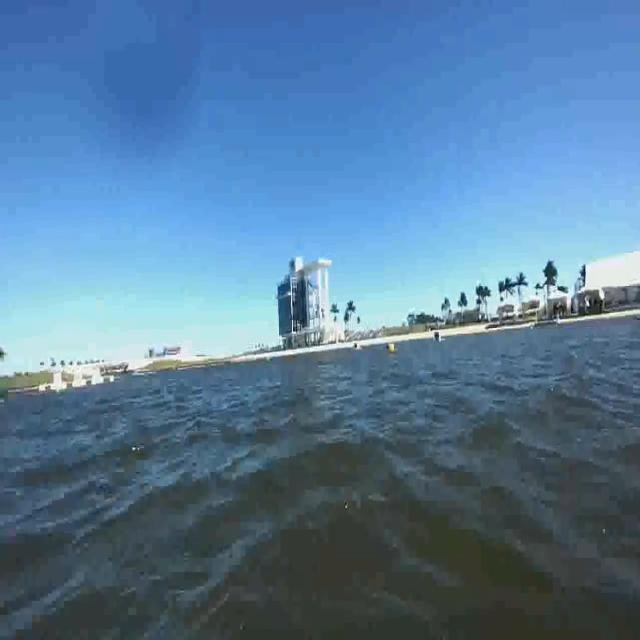yellow-buoy: (386, 343, 394, 356)
